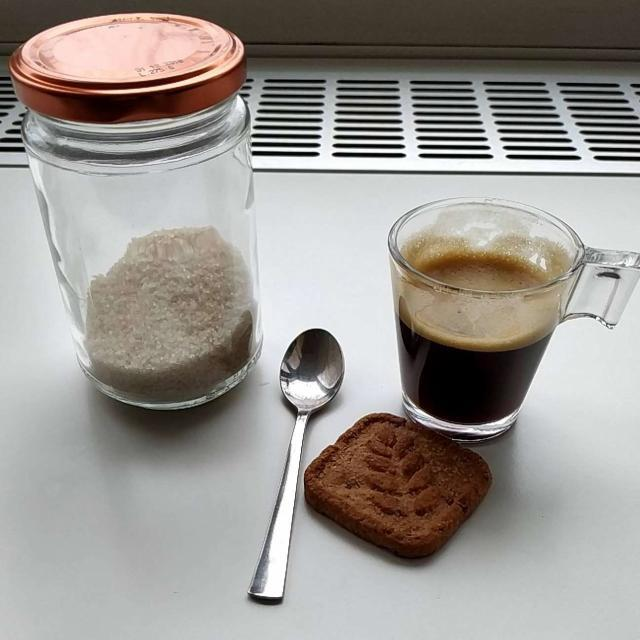biscuits: (303, 403, 494, 566)
coffee: (396, 246, 561, 443)
